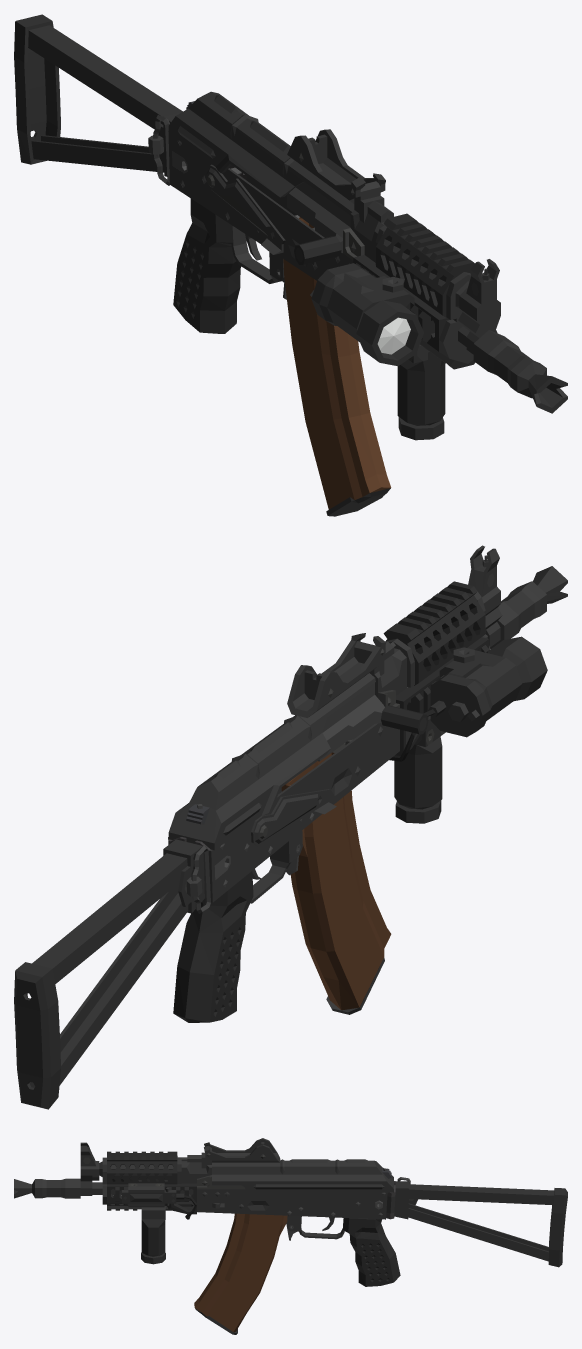
The model's file is weapon_tp.glb.
3 views of the same model, one above another, from view 1: azimuth 30°, elevation 25°; view 2: azimuth 150°, elevation 25°; view 3: azimuth 270°, elevation 25° (orthographic). The views are drawn at different scales.
Parts seen in each view (by area): view 1: Rifle; view 2: Rifle; view 3: Rifle.
Part boxes in pixels (left/top/right/bottom): Rifle: left=14, top=14, right=567, bottom=516; Rifle: left=14, top=545, right=567, bottom=1109; Rifle: left=14, top=1138, right=567, bottom=1334.
Bounding box in the file's own units: 0.0957 × 0.2477 × 0.6514.
1 material, 1 textured.
